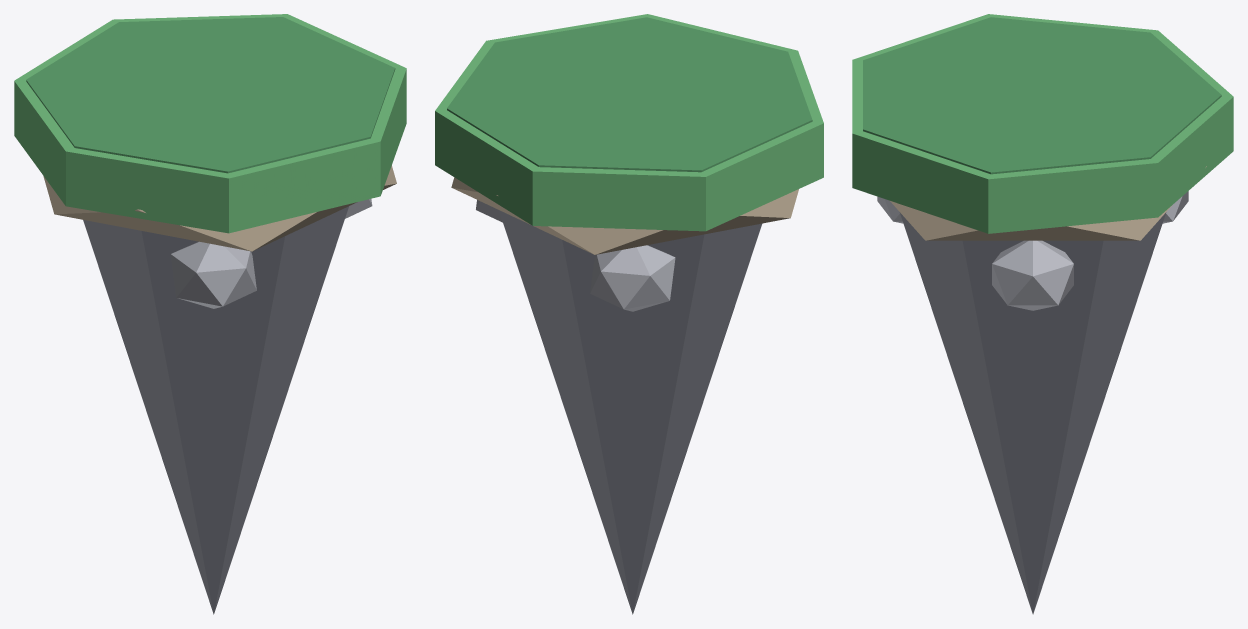
The model's file is island.glb.
3 views of the same model, side by side, from view 1: azimuth 30°, elevation 25°; view 2: azimuth 150°, elevation 25°; view 3: azimuth 270°, elevation 25° (orthographic).
Parts seen in each view (by area): view 1: IslandTop; view 2: IslandTop; view 3: IslandTop.
Boxes of the visible parts, x1,y1,x2,y2 form: IslandTop: (14,14,406,614); IslandTop: (435,14,823,614); IslandTop: (852,14,1233,614).
Size of the model in its own units: 1.95 by 2.86 by 1.9.
